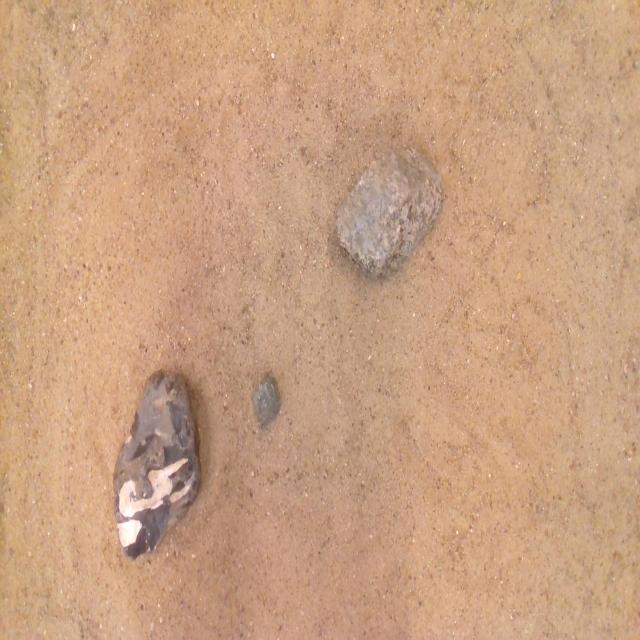rock: (113, 372, 200, 558), (336, 150, 443, 275), (252, 376, 280, 425)
